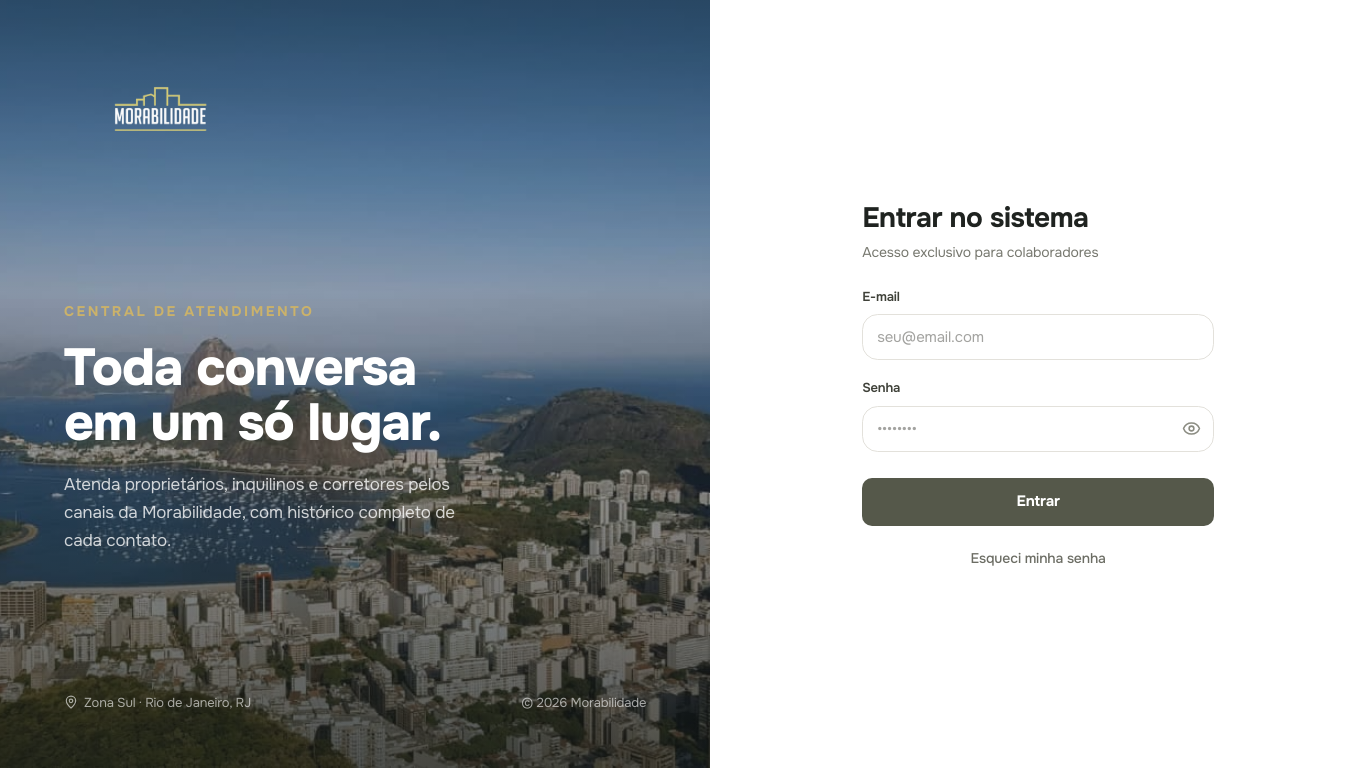
Test case: Login — acessibilidade em runtime › o botão de mostrar/ocultar senha tem nome acessível e alterna o tipo
This screenshot has width=1366, height=768.
Click the button named "Mostrar senha": (1191, 428) [1174,412,1208,446]
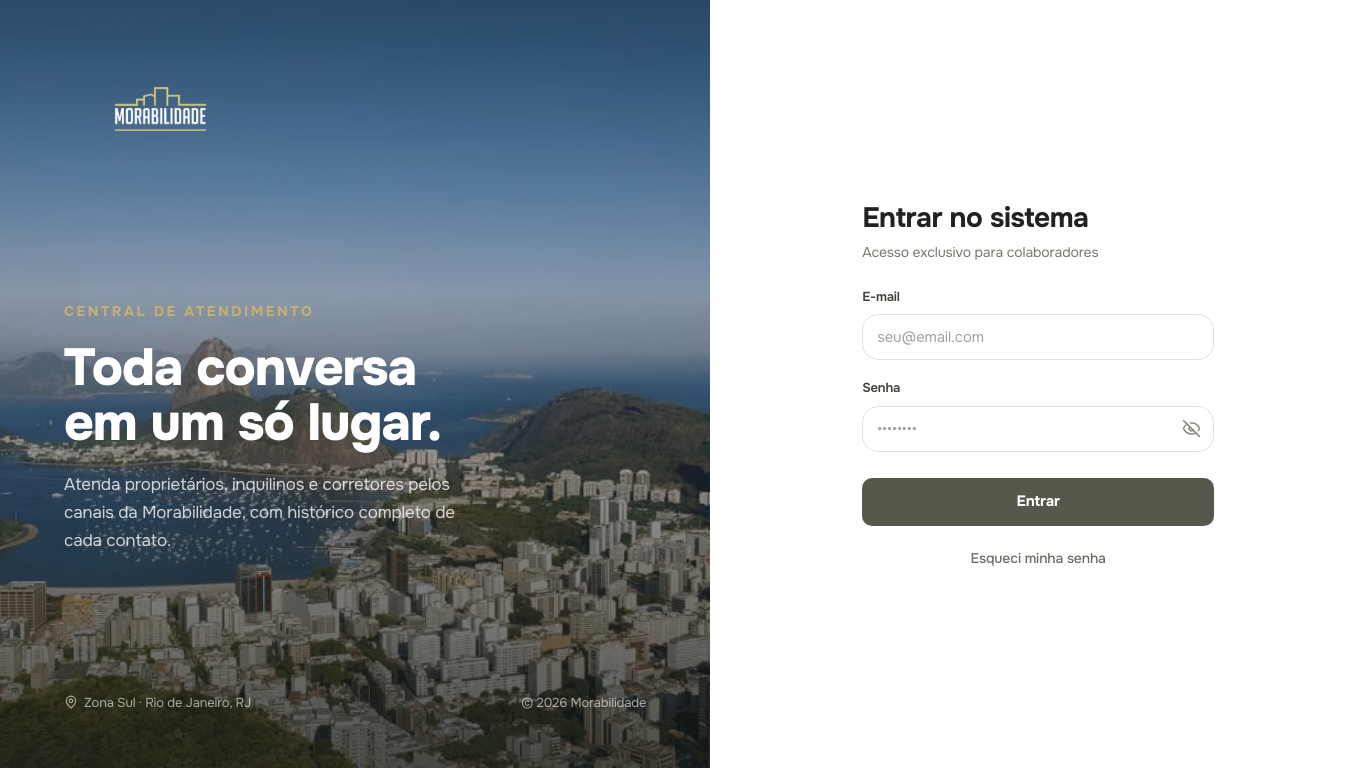
Expected: the button named "Ocultar senha" is shown, [1174,412,1208,446]
